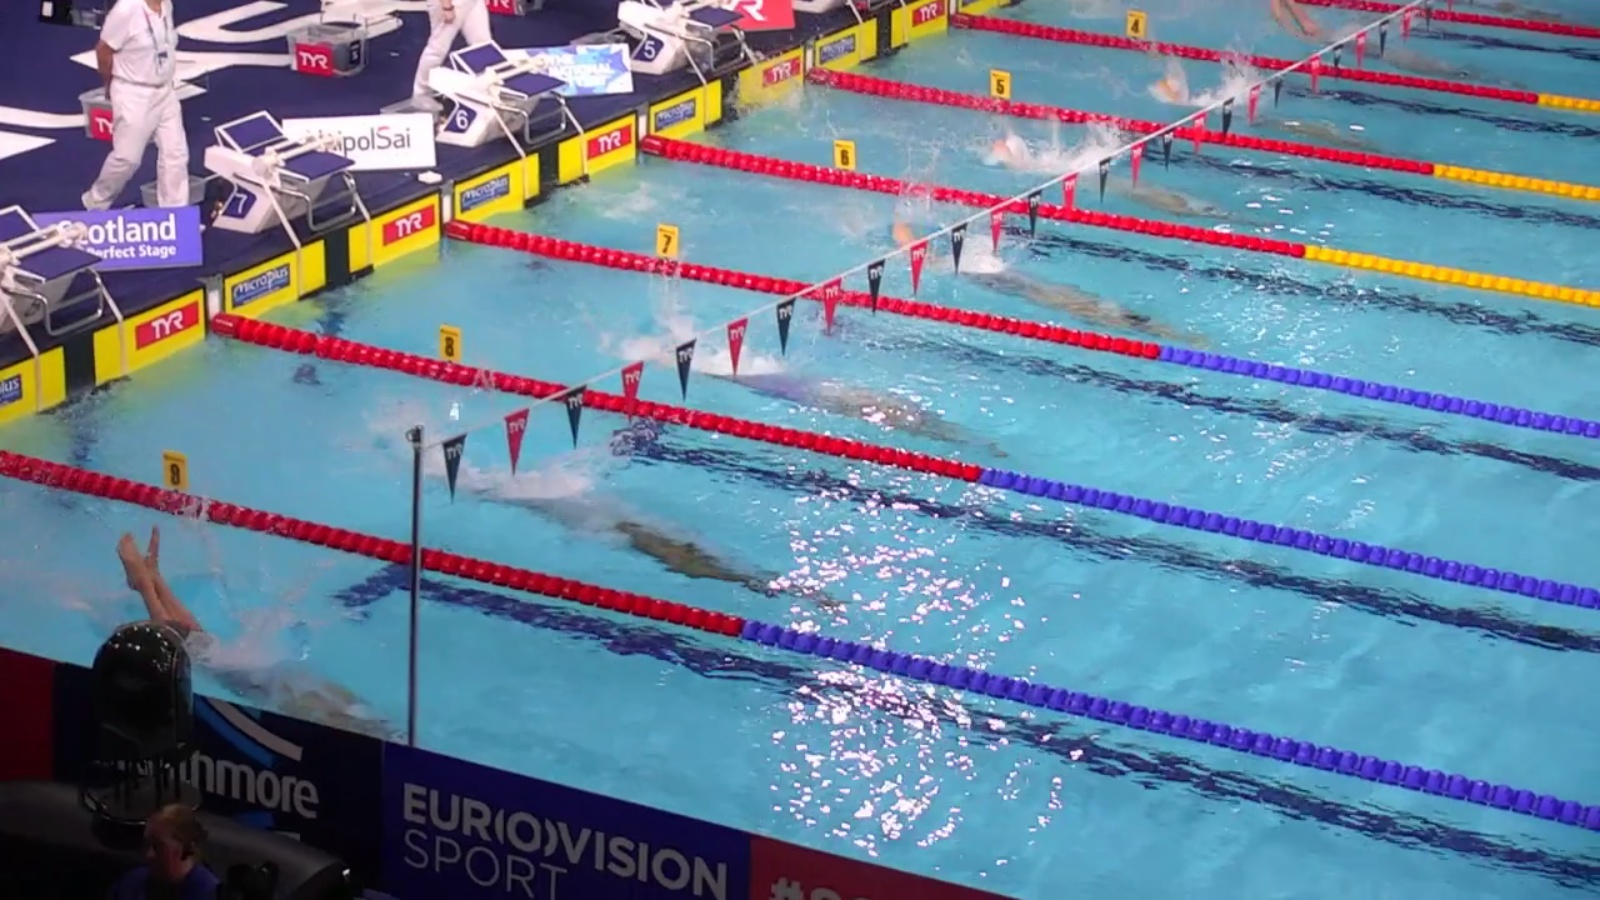swimmerw: (102, 527, 442, 760), (878, 212, 1202, 343), (495, 485, 843, 605), (703, 359, 1005, 460), (989, 136, 1255, 224), (1273, 1, 1522, 84), (1162, 75, 1381, 148)
